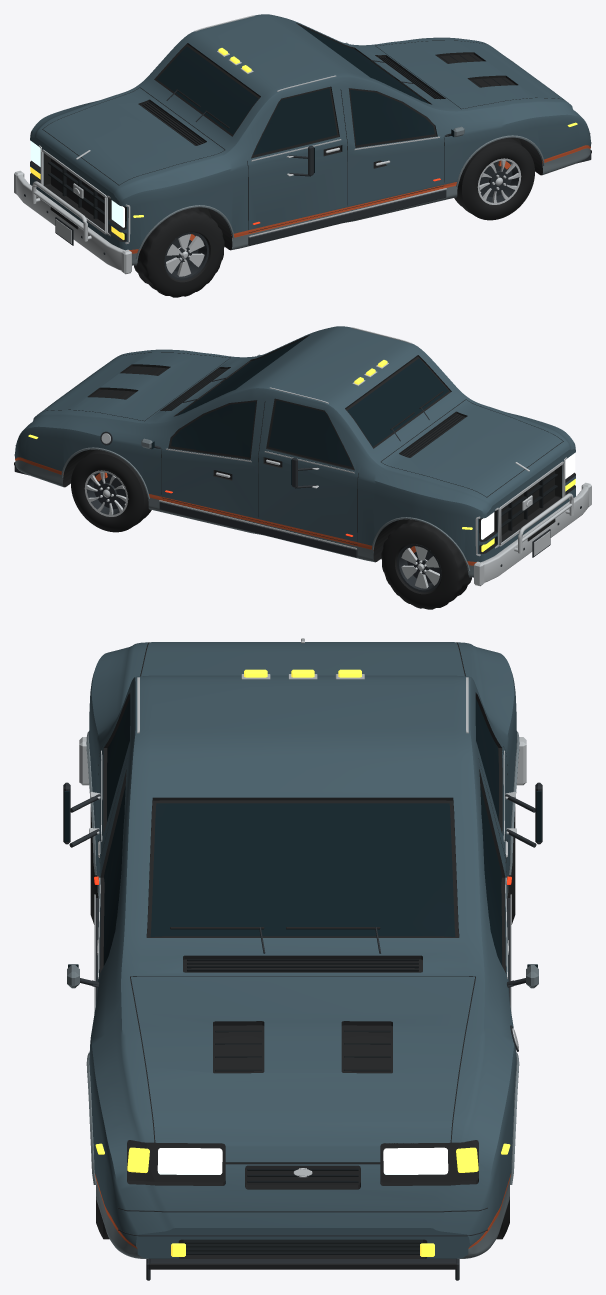
Rendered from deadbolt_hardsurface.glb.
3 views of the same model, one above another, from view 1: azimuth 30°, elevation 25°; view 2: azimuth 150°, elevation 25°; view 3: azimuth 270°, elevation 25° (orthographic). The views are drawn at different scales.
Visible parts, largest first — view 1: Body_DeadboltShell.001, Detail_BrushedMetal, Wheel_Truck_Tire_-1.001, Glass_TruckWindshield.001, Wheel_Coupe_Tire_-1.001, Glass_TruckSide_R.001, Glass_CoupeSide_R.001, Detail_Gunmetal, Detail_Grille, Glass_CoupeWindshield.001, Detail_Secondary, Wheel_Coupe_Hub_-1.001 (+5 smaller); view 2: Body_DeadboltShell.001, Detail_BrushedMetal, Wheel_Truck_Tire_+1.001, Glass_TruckWindshield.001, Wheel_Coupe_Tire_+1.001, Glass_TruckSide_L.001, Glass_CoupeSide_L.001, Detail_Gunmetal, Detail_Grille, Glass_CoupeWindshield.001, Detail_Secondary, Wheel_Coupe_Hub_+1.001 (+5 smaller); view 3: Body_DeadboltShell.001, Glass_CoupeWindshield.001, Detail_Grille, Detail_Gunmetal, Detail_Headlight, Detail_BrushedMetal, Detail_Rubber, Detail_Amber, Detail_Secondary, Glass_CoupeSide_L.001, Glass_CoupeSide_R.001, Glass_TruckSide_R.001 (+1 smaller).
Boxes of the visible parts, x1,y1,x2,y2 form: Body_DeadboltShell.001: (30, 14, 590, 265); Detail_BrushedMetal: (14, 15, 446, 274); Wheel_Truck_Tire_-1.001: (134, 207, 224, 297); Glass_TruckWindshield.001: (157, 46, 258, 134); Wheel_Coupe_Tire_-1.001: (454, 137, 534, 220); Glass_TruckSide_R.001: (253, 88, 337, 154); Glass_CoupeSide_R.001: (350, 90, 434, 145); Detail_Gunmetal: (24, 60, 591, 254); Detail_Grille: (48, 54, 511, 218); Glass_CoupeWindshield.001: (300, 26, 428, 103); Detail_Secondary: (135, 42, 544, 259); Wheel_Coupe_Hub_-1.001: (479, 160, 512, 196); Body_DeadboltShell.001: (15, 326, 575, 577); Detail_BrushedMetal: (101, 327, 591, 586); Wheel_Truck_Tire_+1.001: (381, 519, 471, 609); Glass_TruckWindshield.001: (347, 358, 448, 446); Wheel_Coupe_Tire_+1.001: (71, 449, 151, 532); Glass_TruckSide_L.001: (268, 400, 352, 466); Glass_CoupeSide_L.001: (171, 402, 255, 457); Detail_Gunmetal: (14, 377, 581, 566); Detail_Grille: (94, 366, 557, 530); Glass_CoupeWindshield.001: (177, 338, 305, 415); Detail_Secondary: (61, 354, 470, 571); Wheel_Coupe_Hub_+1.001: (93, 472, 126, 508); Body_DeadboltShell.001: (89, 642, 516, 1258); Glass_CoupeWindshield.001: (150, 803, 455, 936); Detail_Grille: (183, 959, 422, 1254); Detail_Gunmetal: (63, 782, 542, 1280); Detail_Headlight: (157, 1147, 448, 1174); Detail_BrushedMetal: (79, 638, 526, 1177); Detail_Rubber: (148, 927, 457, 1269); Detail_Amber: (95, 669, 510, 1256); Detail_Secondary: (67, 731, 538, 1184); Glass_CoupeSide_L.001: (480, 786, 501, 965); Glass_CoupeSide_R.001: (104, 786, 125, 965); Glass_TruckSide_R.001: (107, 698, 130, 821).
Size of the model in its own units: 5.33 by 1.82 by 2.23.
